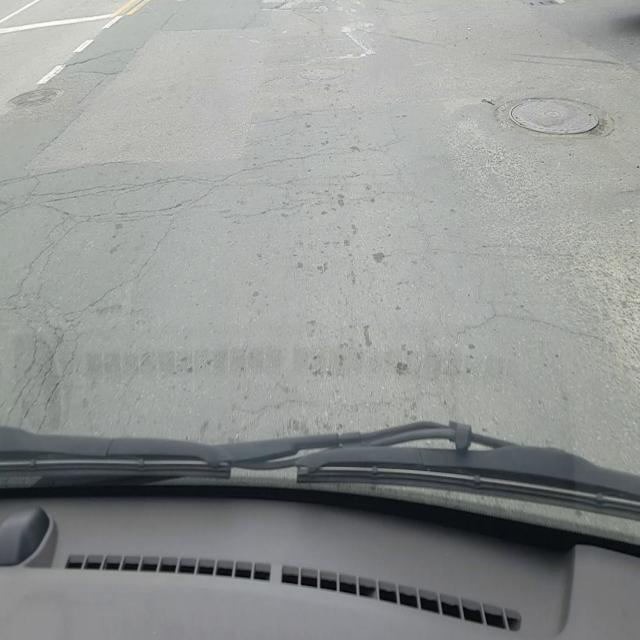Pothole: (507, 98, 609, 142)
